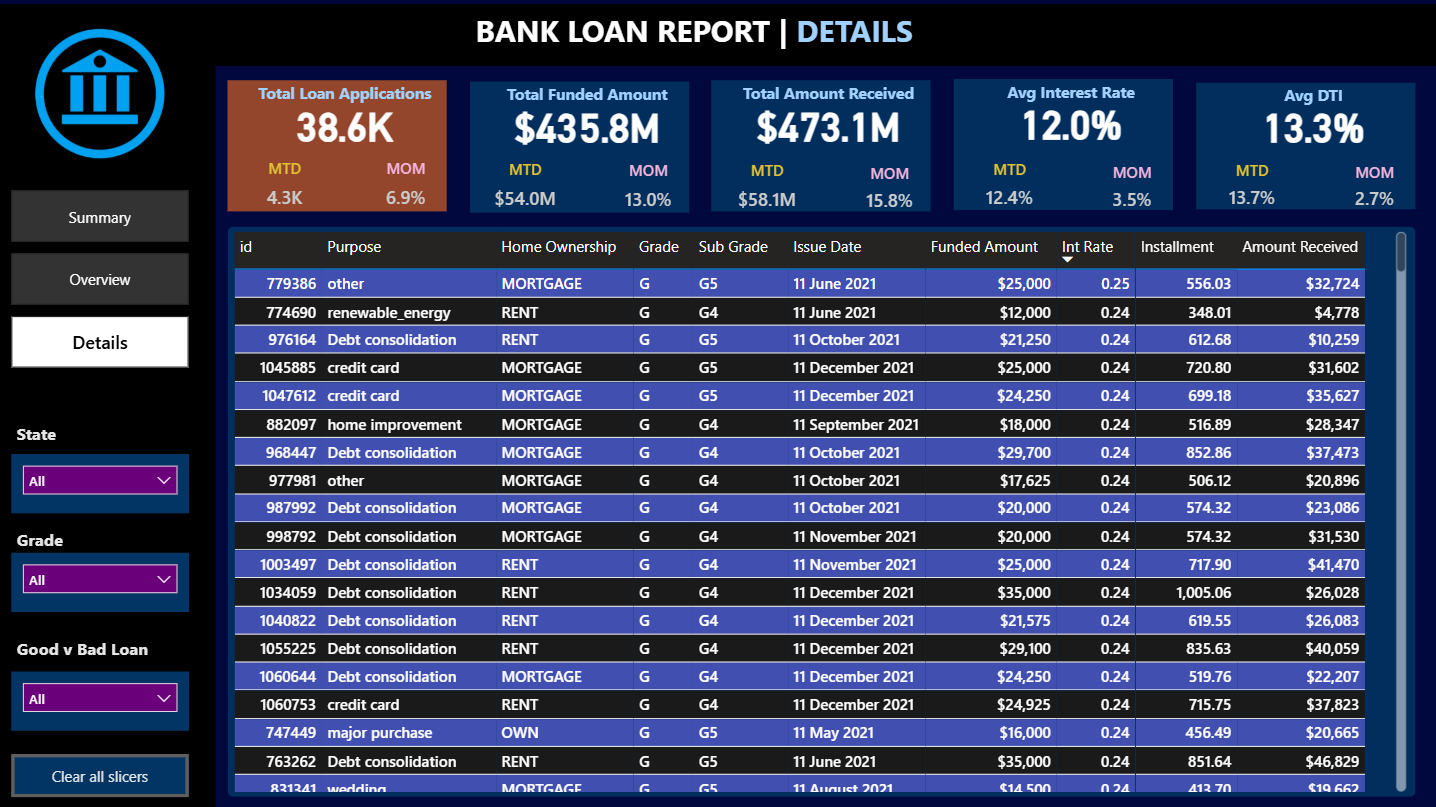

Layout of this report page (visuals, bound fields, positions):
{"tool":"powerbi","page":{"name":"Details","canvas":[1280,720],"ordinal":2},"visuals":[{"type":"shape","box":[0,55.5,192,664.7],"z":0},{"type":"shape","box":[848.8,70.8,195.4,117],"z":0,"group":"g4"},{"type":"shape","box":[202.7,72,195.4,117],"z":0,"group":"g1"},{"type":"shape","box":[633.6,72,195.4,117],"z":0,"group":"g3"},{"type":"shape","box":[418.3,73.2,195.4,117],"z":0,"group":"g2"},{"type":"shape","box":[1065.3,74.2,195.4,112.7],"z":0,"group":"g5"},{"type":"card","fields":{"Values":["bank_loan_data.Avg Interest Rate"]},"box":[855.2,85.7,195.4,48.3],"z":1000,"group":"g4"},{"type":"card","fields":{"Values":["bank_loan_data.Total Loan Applications"]},"box":[209.1,86.9,195.4,48.3],"z":1000,"group":"g1"},{"type":"card","fields":{"Values":["bank_loan_data.Total Amount Received"]},"box":[640,86.9,195.4,48.3],"z":1000,"group":"g3"},{"type":"card","fields":{"Values":["bank_loan_data.Total Funded Amount"]},"box":[424.7,88.1,195.4,48.3],"z":1000,"group":"g2"},{"type":"card","fields":{"Values":["bank_loan_data.Avg DTI"]},"box":[1071.7,88.6,195.4,46.5],"z":1000,"group":"g5"},{"type":"shape","box":[202.7,202.7,1058,507.9],"z":1000},{"type":"shape","box":[0,4.8,1280,55.5],"z":2000},{"type":"textbox","box":[855.2,67.6,195.4,33.8],"z":2000,"group":"g4"},{"type":"textbox","box":[209.1,68.8,195.4,33.8],"z":2000,"group":"g1"},{"type":"textbox","box":[640,68.8,195.4,33.8],"z":2000,"group":"g3"},{"type":"textbox","box":[424.7,70,195.4,33.8],"z":2000,"group":"g2"},{"type":"textbox","box":[1071.7,71.2,195.4,32.5],"z":2000,"group":"g5"},{"type":"textbox","box":[418.6,4.8,442.8,45.8],"z":3000},{"type":"card","title":"MTD","fields":{"Values":["bank_loan_data.MTD Loan Applications"]},"box":[220,141.5,66.4,56.7],"z":3000,"group":"g1"},{"type":"card","title":"MTD","fields":{"Values":["bank_loan_data.MTD Funded Amount"]},"box":[433.9,142.7,67.6,56.7],"z":3000,"group":"g2"},{"type":"card","title":"MTD","fields":{"Values":["bank_loan_data.MTD Avg Int Rate"]},"box":[865.6,142.7,66.4,55.5],"z":3000,"group":"g4"},{"type":"card","title":"MTD","fields":{"Values":["bank_loan_data.MTD Avg DTI"]},"box":[1082.1,143.5,66.4,53.5],"z":3000,"group":"g5"},{"type":"card","title":"MTD","fields":{"Values":["bank_loan_data.MTD Total Amount Received"]},"box":[650.4,143.9,66.4,55.5],"z":3000,"group":"g3"},{"type":"group","id":"g1","title":"Group 1","box":[202.7,68.8,201.8,130.6],"z":4000},{"type":"card","title":"MOM","fields":{"Values":["bank_loan_data.Mom Loan Application"]},"box":[328.6,141.5,66.4,57.9],"z":4000,"group":"g1"},{"type":"card","title":"MOM","fields":{"Values":["bank_loan_data.MoM Total Funded Amount"]},"box":[543.7,143.9,66.4,56.7],"z":4000,"group":"g2"},{"type":"card","title":"MOM","fields":{"Values":["bank_loan_data.MoM Avg Int Rate"]},"box":[974.2,143.9,66.4,54.3],"z":4000,"group":"g4"},{"type":"card","title":"MOM","fields":{"Values":["bank_loan_data.MoM Avg DTI"]},"box":[1190.7,144.7,66.4,52.3],"z":4000,"group":"g5"},{"type":"card","title":"MOM","fields":{"Values":["bank_loan_data.MoM Total Amount Received"]},"box":[759,145.1,66.4,54.3],"z":4000,"group":"g3"},{"type":"group","id":"g2","title":"Group 1","box":[418.3,70,201.5,130.3],"z":5000},{"type":"group","id":"g3","title":"Group 1","box":[633.6,68.8,201.5,130.3],"z":6000},{"type":"group","id":"g4","title":"Group 1","box":[848.8,67.6,202.7,131.5],"z":7000},{"type":"group","id":"g5","title":"Group 1","box":[1065.3,71.2,202.7,126.7],"z":8000},{"type":"slicer","fields":{"Values":["bank_loan_data.address_state"]},"box":[9.7,405.4,158,53.1],"z":10000},{"type":"textbox","box":[9.7,371.6,68.8,33.8],"z":11000},{"type":"slicer","fields":{"Values":["bank_loan_data.grade"]},"box":[9.7,493.4,158,53.1],"z":12000},{"type":"textbox","box":[9.7,466.9,68.8,35],"z":13000},{"type":"slicer","fields":{"Values":["bank_loan_data.Good v Bad Loan"]},"box":[9.7,598.4,158,53.1],"z":14000},{"type":"textbox","box":[9.7,563.4,155.6,35],"z":15000},{"type":"actionButton","box":[9.7,672,158,38.6],"z":16000},{"type":"tableEx","fields":{"Values":["bank_loan_data.id","bank_loan_data.purpose","bank_loan_data.home_ownership","bank_loan_data.grade","bank_loan_data.sub_grade","bank_loan_data.issue_date","bank_loan_data.Total Funded Amount","Sum(bank_loan_data.int_rate)","Sum(bank_loan_data.installment)","bank_loan_data.Total Amount Received"]},"box":[202.7,202.7,1054.4,507.9],"z":19000},{"type":"pageNavigator","box":[9.7,170.1,158,160.5],"z":19001},{"type":"image","box":[19.3,13.3,139.9,142.4],"z":19002}]}

Visuals, with their boxes in screenshot pixels (x1, y1, x2, y2), scaled from the page's 1280x720 canvas onto the 1436x807 screenshot:
shape: box=[0, 62, 215, 806]
shape: box=[952, 79, 1171, 210]
shape: box=[227, 81, 447, 212]
shape: box=[711, 81, 930, 212]
shape: box=[469, 82, 688, 213]
shape: box=[1195, 83, 1414, 209]
card - bank_loan_data.Avg Interest Rate: box=[959, 96, 1179, 150]
card - bank_loan_data.Total Loan Applications: box=[235, 97, 454, 152]
card - bank_loan_data.Total Amount Received: box=[718, 97, 937, 152]
card - bank_loan_data.Total Funded Amount: box=[476, 99, 696, 153]
card - bank_loan_data.Avg DTI: box=[1202, 99, 1422, 151]
shape: box=[227, 227, 1414, 796]
shape: box=[0, 5, 1435, 68]
textbox: box=[959, 76, 1179, 114]
textbox: box=[235, 77, 454, 115]
textbox: box=[718, 77, 937, 115]
textbox: box=[476, 78, 696, 116]
textbox: box=[1202, 80, 1422, 116]
textbox: box=[470, 5, 966, 57]
"MTD" card: box=[247, 159, 321, 222]
"MTD" card: box=[487, 160, 563, 223]
"MTD" card: box=[971, 160, 1046, 222]
"MTD" card: box=[1214, 161, 1288, 221]
"MTD" card: box=[730, 161, 804, 223]
"Group 1" group: box=[227, 77, 454, 223]
"MOM" card: box=[369, 159, 443, 223]
"MOM" card: box=[610, 161, 684, 225]
"MOM" card: box=[1093, 161, 1167, 222]
"MOM" card: box=[1336, 162, 1410, 221]
"MOM" card: box=[852, 163, 926, 223]
"Group 1" group: box=[469, 78, 695, 225]
"Group 1" group: box=[711, 77, 937, 223]
"Group 1" group: box=[952, 76, 1180, 223]
"Group 1" group: box=[1195, 80, 1423, 222]
slicer - bank_loan_data.address_state: box=[11, 454, 188, 514]
textbox: box=[11, 417, 88, 454]
slicer - bank_loan_data.grade: box=[11, 553, 188, 613]
textbox: box=[11, 523, 88, 563]
slicer - bank_loan_data.Good v Bad Loan: box=[11, 671, 188, 730]
textbox: box=[11, 631, 185, 671]
actionButton: box=[11, 753, 188, 796]
tableEx - bank_loan_data.id x bank_loan_data.purpose: box=[227, 227, 1410, 796]
pageNavigator: box=[11, 191, 188, 371]
image: box=[22, 15, 179, 175]
